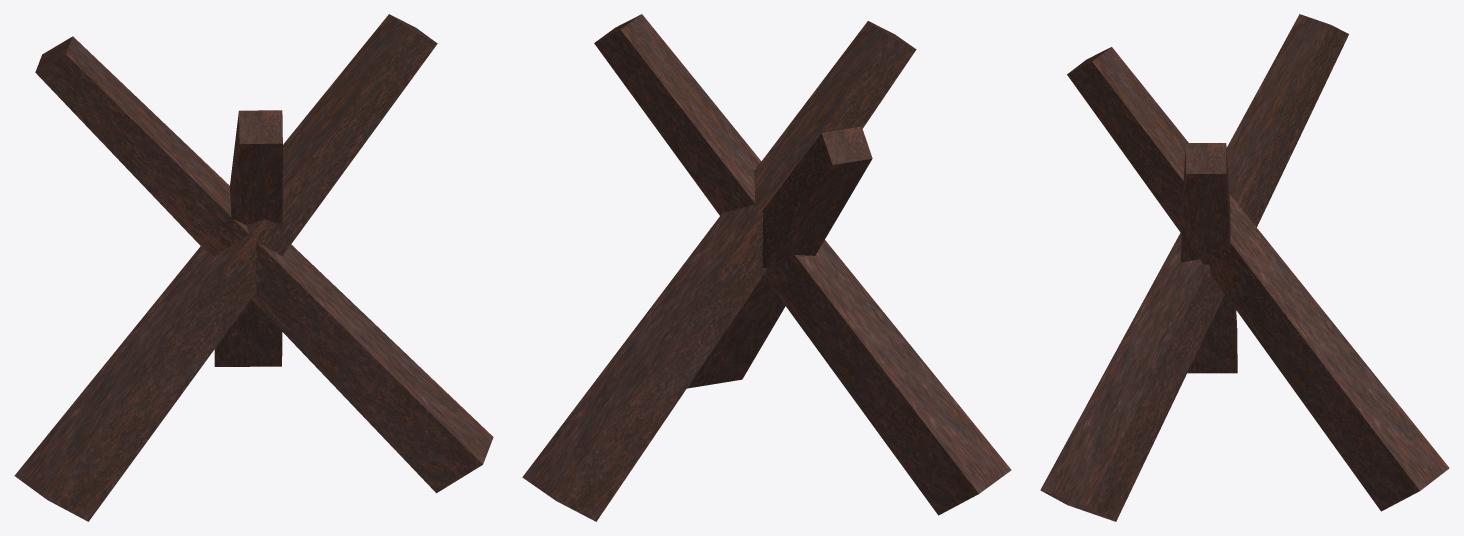
Rendered from SM_Czech_hedgehog.FBX.
3 views of the same model, side by side, from view 1: azimuth 30°, elevation 25°; view 2: azimuth 150°, elevation 25°; view 3: azimuth 270°, elevation 25° (orthographic). The views are drawn at different scales.
Visible parts, largest first — view 1: SM_Czech_hedgehog; view 2: SM_Czech_hedgehog; view 3: SM_Czech_hedgehog.
Boxes of the visible parts, x1=… form: SM_Czech_hedgehog: x1=14, y1=14, x2=493, y2=521; SM_Czech_hedgehog: x1=522, y1=14, x2=1011, y2=521; SM_Czech_hedgehog: x1=1040, y1=14, x2=1449, y2=521.
Size of the model in its own units: 118 by 112 by 115.
